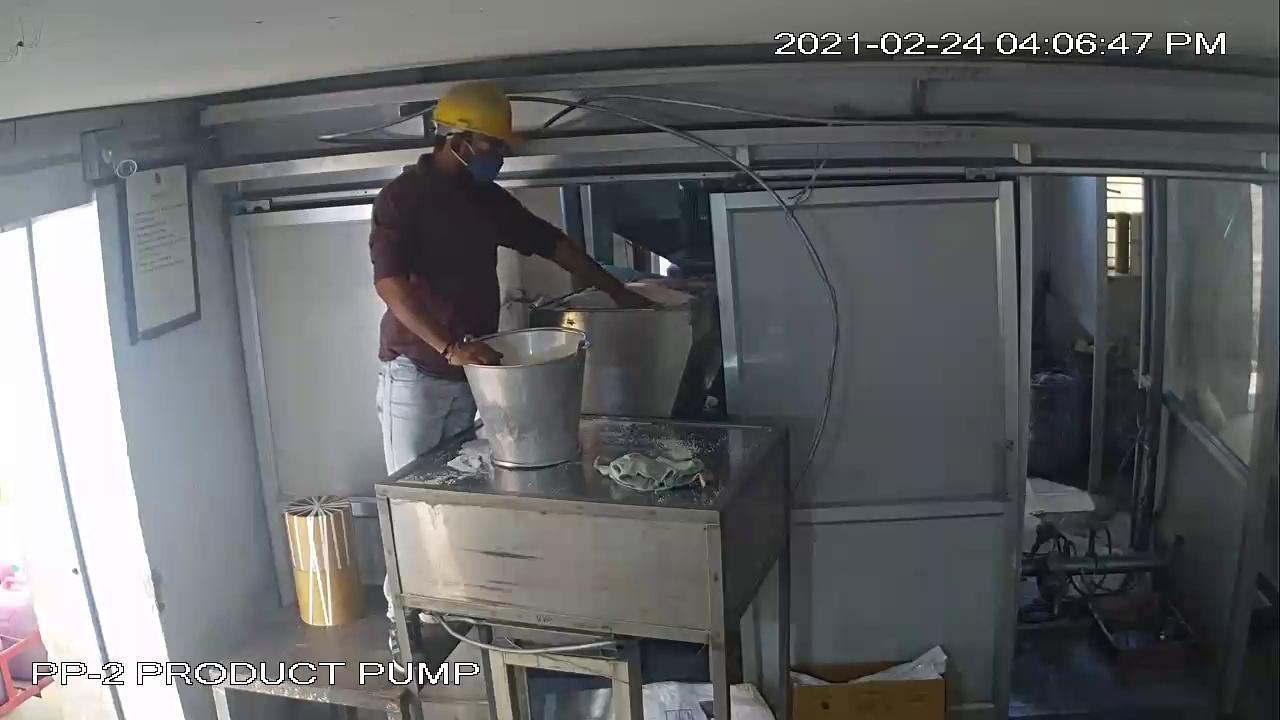helmet: (420, 73, 532, 160)
